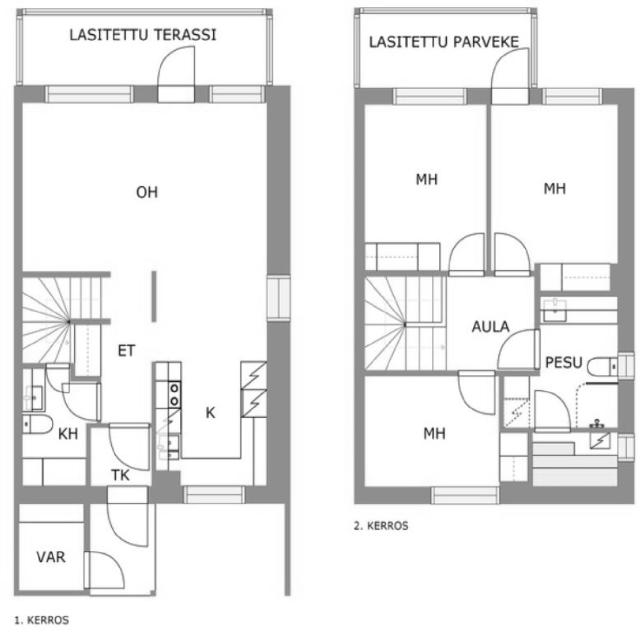door: (102, 483, 155, 552), (153, 41, 200, 106), (484, 43, 534, 104), (105, 419, 154, 477), (452, 367, 500, 420), (489, 226, 536, 278), (79, 546, 131, 592), (444, 227, 488, 281), (494, 324, 543, 372), (61, 376, 106, 424), (530, 386, 573, 436), (43, 358, 71, 395)
window: (420, 475, 508, 512), (382, 79, 477, 112), (176, 474, 253, 512), (40, 80, 138, 108), (537, 77, 610, 111), (202, 77, 270, 110), (261, 269, 295, 330), (348, 12, 367, 91), (260, 13, 280, 88), (10, 14, 30, 84), (617, 430, 638, 466)
zone: (19, 96, 278, 275), (486, 96, 620, 286), (155, 276, 269, 488), (359, 100, 489, 273), (358, 372, 505, 494), (16, 368, 90, 489), (536, 293, 624, 386), (404, 365, 499, 449), (16, 500, 88, 596)
